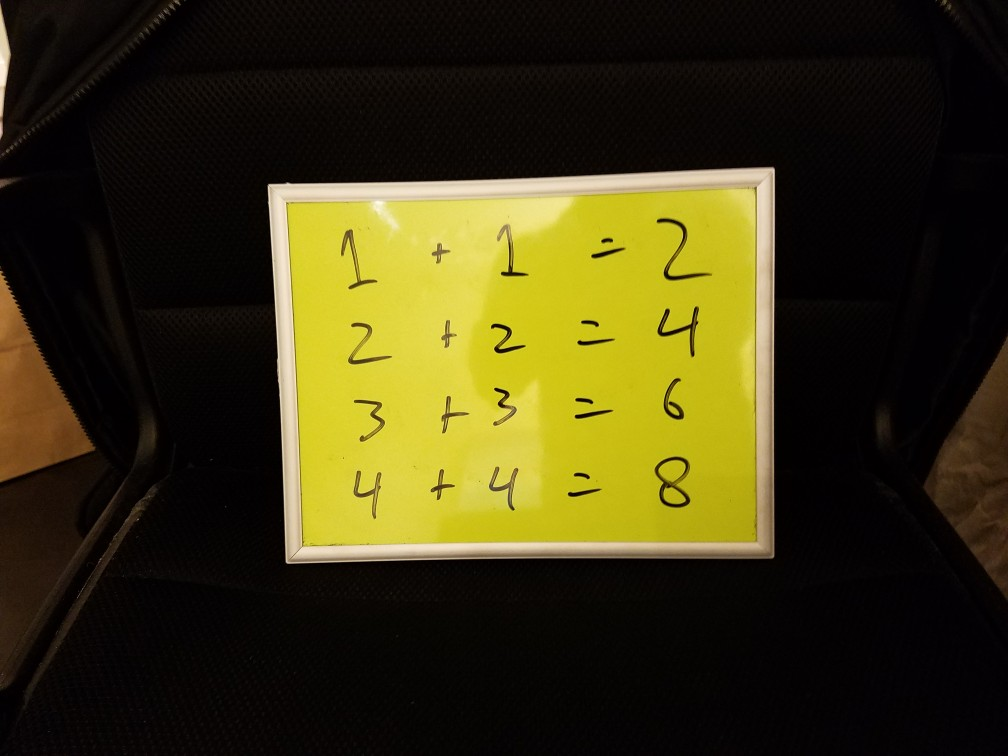+: (430, 388, 471, 441), (430, 469, 456, 507), (424, 238, 453, 271), (435, 316, 463, 350)
1: (334, 226, 380, 297), (492, 221, 532, 281)
2: (651, 210, 713, 286), (342, 316, 395, 370), (485, 317, 530, 359)
3: (483, 379, 521, 432), (353, 392, 389, 445)
4: (647, 301, 707, 358), (482, 457, 526, 515), (346, 464, 385, 522)
6: (659, 374, 692, 424)
8: (645, 447, 701, 520)
=: (558, 459, 606, 506), (570, 307, 617, 351), (569, 388, 618, 423), (585, 228, 626, 264)
